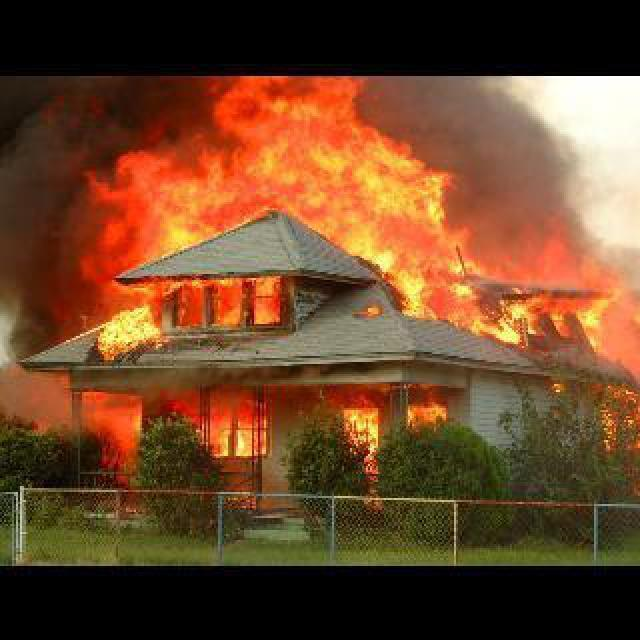Fire: (70, 75, 452, 221), (374, 222, 462, 300), (94, 306, 162, 356), (478, 298, 522, 344)
Smoke: (462, 76, 618, 282), (0, 74, 69, 344)
